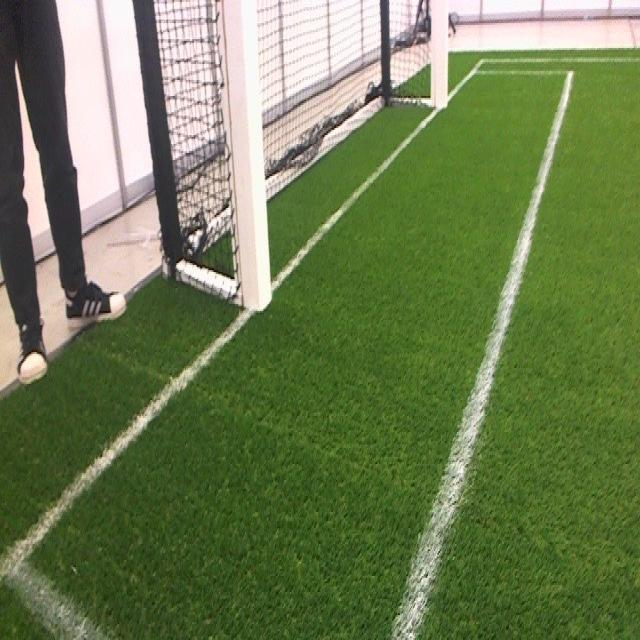goalpost: (219, 2, 270, 318), (429, 2, 449, 101)
